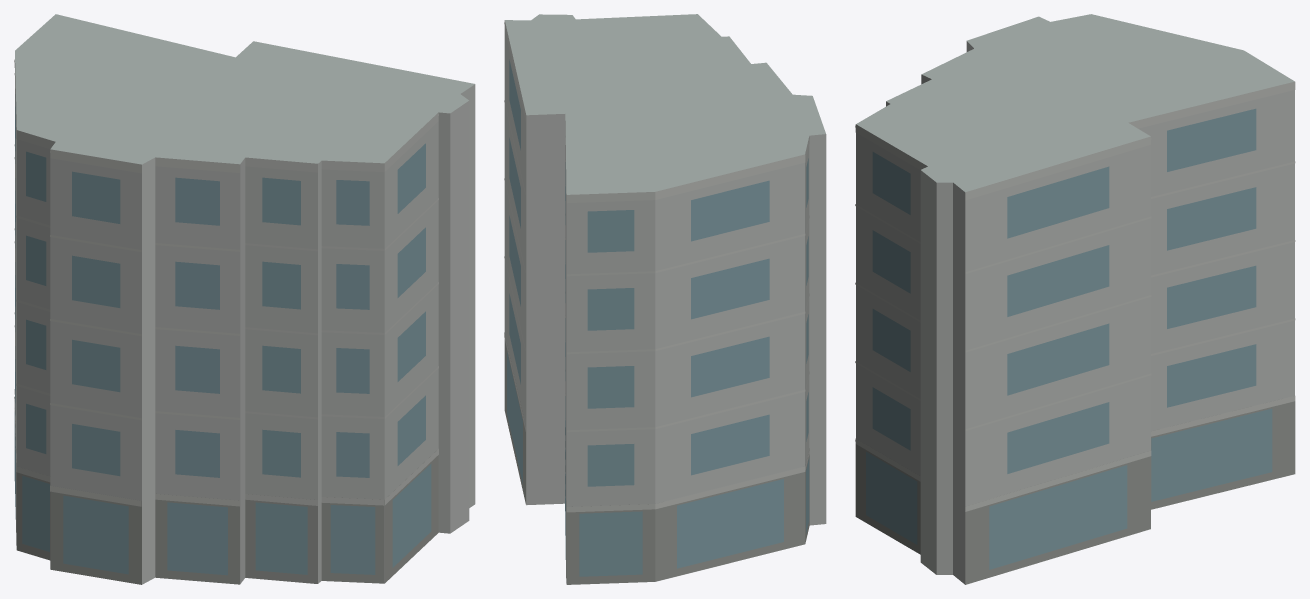
File: survey-upis-32906517.glb
3 renders of one model, left to right at view 1: azimuth 30°, elevation 25°; view 2: azimuth 150°, elevation 25°; view 3: azimuth 270°, elevation 25°, orthographic. The views are drawn at different scales.
Visible parts, largest first — view 1: survey-upis-32906517.tmp; view 2: survey-upis-32906517.tmp; view 3: survey-upis-32906517.tmp.
Boxes of the visible parts, left/top/right/bottom form: survey-upis-32906517.tmp: left=14, top=14, right=475, bottom=584; survey-upis-32906517.tmp: left=504, top=14, right=826, bottom=584; survey-upis-32906517.tmp: left=855, top=14, right=1295, bottom=584.
Size of the model in its own units: 11.22 by 11.5 by 11.68.
